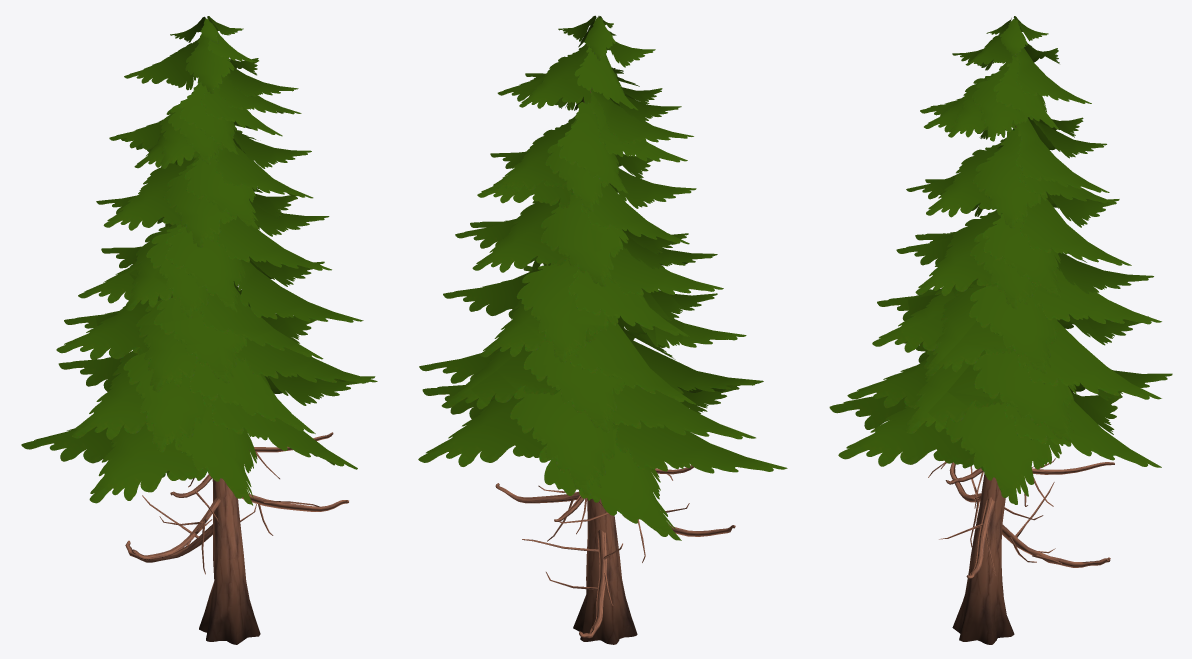
The model's file is pine4.glb.
The picture shows the model from 3 angles, left to right: view 1: azimuth 30°, elevation 25°; view 2: azimuth 150°, elevation 25°; view 3: azimuth 270°, elevation 25°; orthographic projection. The views are drawn at different scales.
Parts seen in each view (by area): view 1: Pine_4; view 2: Pine_4; view 3: Pine_4.
Part boxes in pixels (box(x1,y1,x2,y2)): Pine_4: box(21, 16, 377, 644); Pine_4: box(418, 15, 787, 644); Pine_4: box(829, 16, 1172, 644).
Size of the model in its own units: 5.8 by 10.24 by 5.37.
2 materials, 2 textured.
